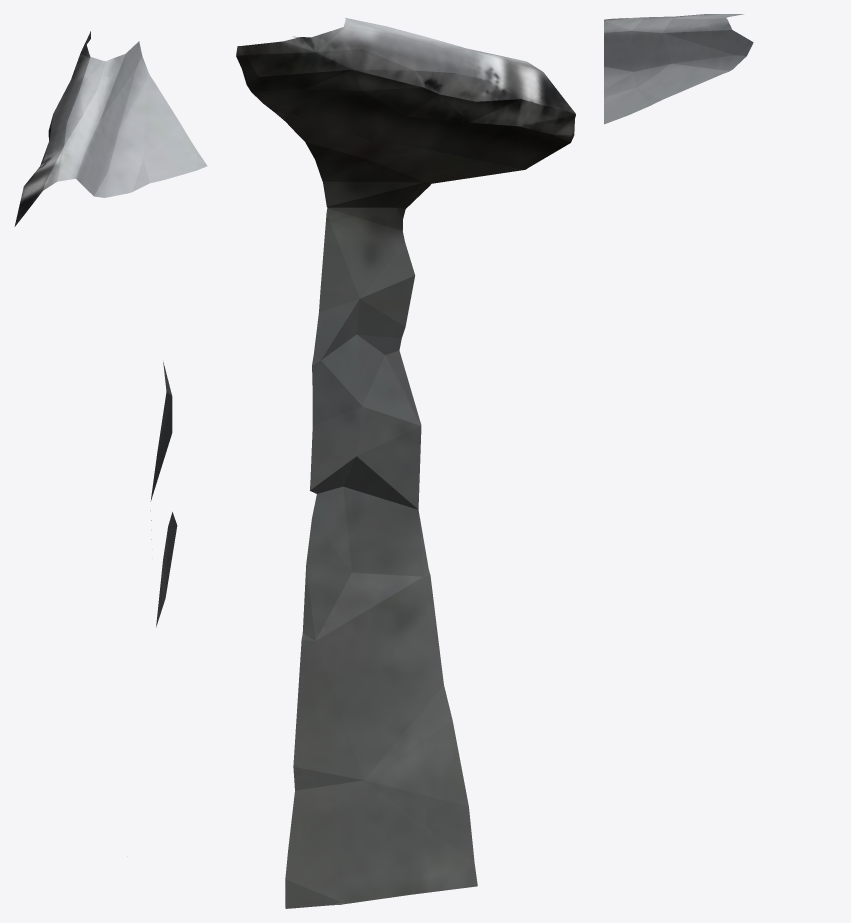
The picture shows the model from 3 angles, left to right: view 1: azimuth 30°, elevation 25°; view 2: azimuth 150°, elevation 25°; view 3: azimuth 270°, elevation 25°; orthographic projection. The views are drawn at different scales.
Bounding box in the file's own units: 0.2139 × 0.8373 × 0.204.
Materials: 1 (1 with a texture image).
